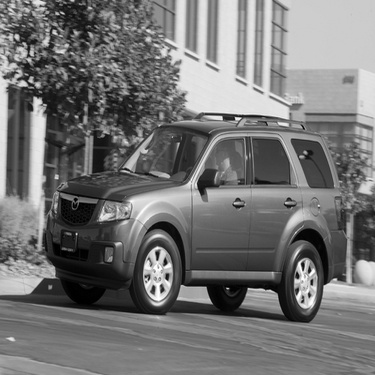car: (42, 110, 350, 320)
